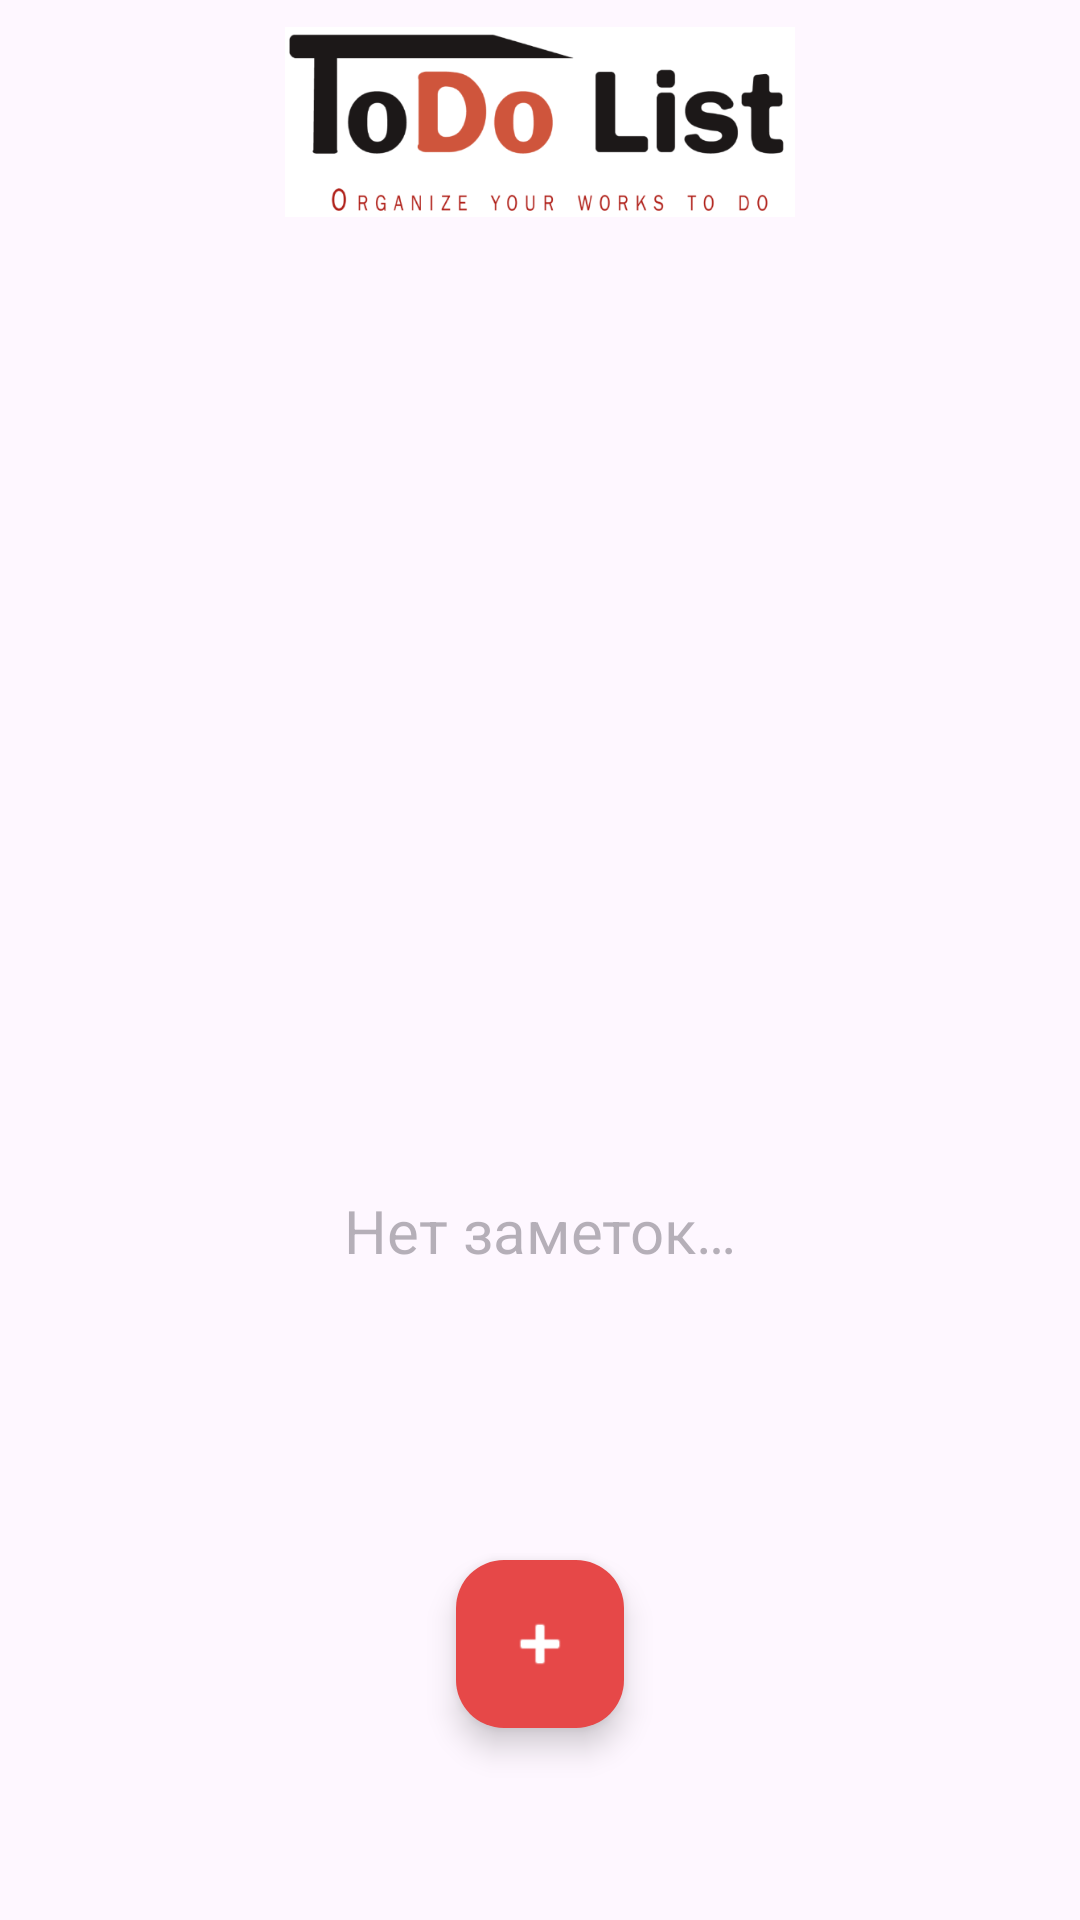

Point at icon controls on the screen. Image size 1080*1920, points as (x,y).
add: (540,1644)
